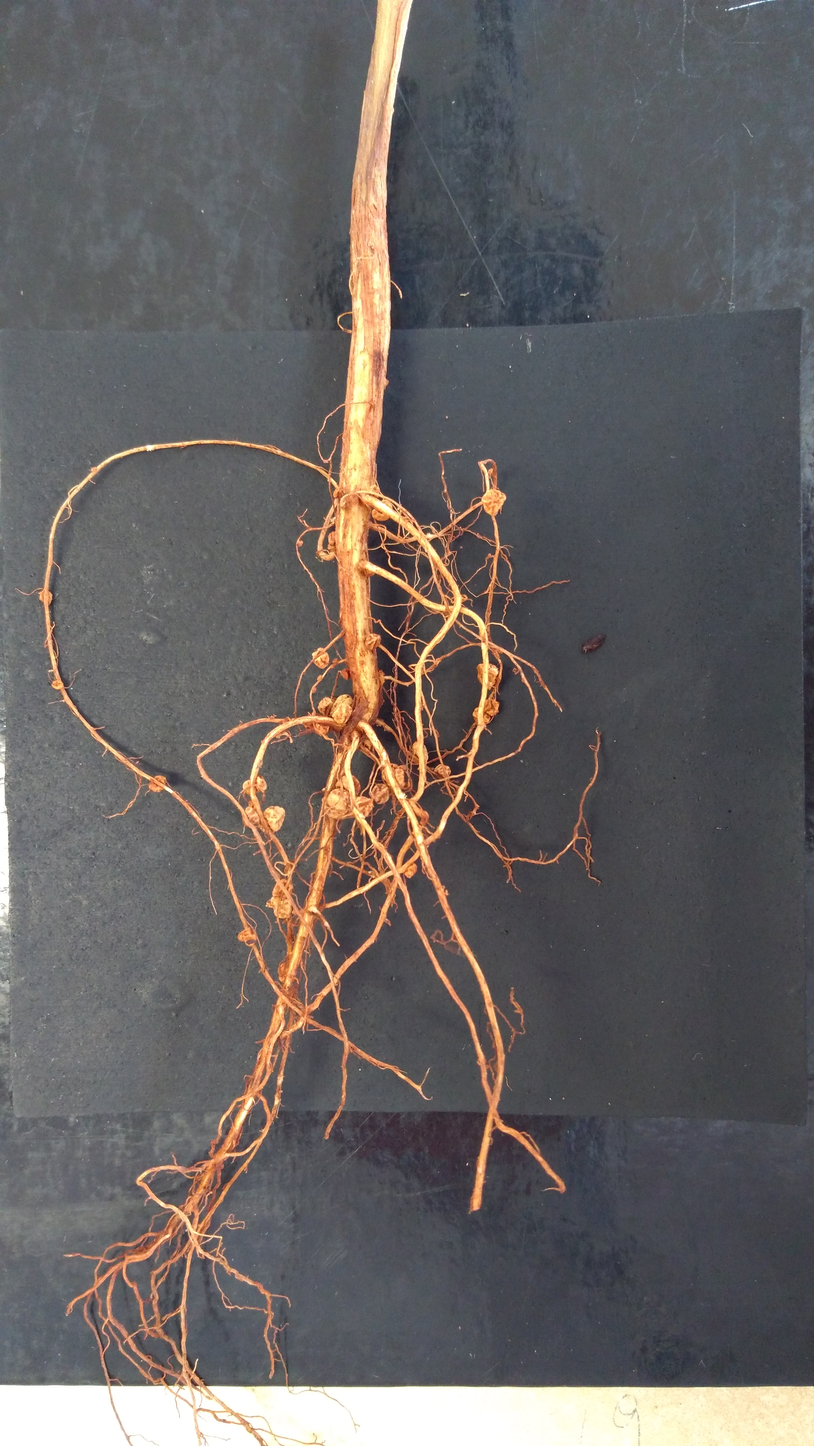nodule: (323, 787, 352, 820), (271, 879, 294, 919), (482, 488, 506, 515), (263, 804, 286, 832), (330, 693, 355, 717), (476, 662, 498, 689), (335, 774, 361, 795), (243, 775, 268, 796), (371, 499, 393, 521), (332, 702, 352, 725), (370, 783, 390, 805), (386, 767, 406, 789), (311, 647, 330, 669), (355, 795, 374, 817), (147, 774, 167, 793), (317, 696, 335, 716), (364, 632, 382, 651), (472, 706, 490, 725), (412, 741, 429, 761), (483, 698, 501, 716), (237, 927, 257, 943), (244, 806, 260, 824), (434, 763, 451, 777), (277, 963, 289, 982), (38, 590, 52, 606), (404, 863, 418, 878), (315, 722, 331, 735), (51, 679, 64, 691), (327, 531, 337, 545), (341, 667, 351, 680), (378, 669, 386, 684), (363, 568, 375, 577), (327, 542, 337, 551), (333, 489, 339, 499), (247, 800, 254, 807), (297, 540, 303, 547), (316, 674, 322, 681), (91, 466, 97, 472), (332, 658, 338, 664), (311, 686, 316, 693)
